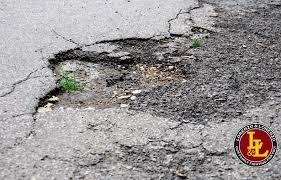pothole: (47, 44, 201, 119), (166, 14, 232, 37)
